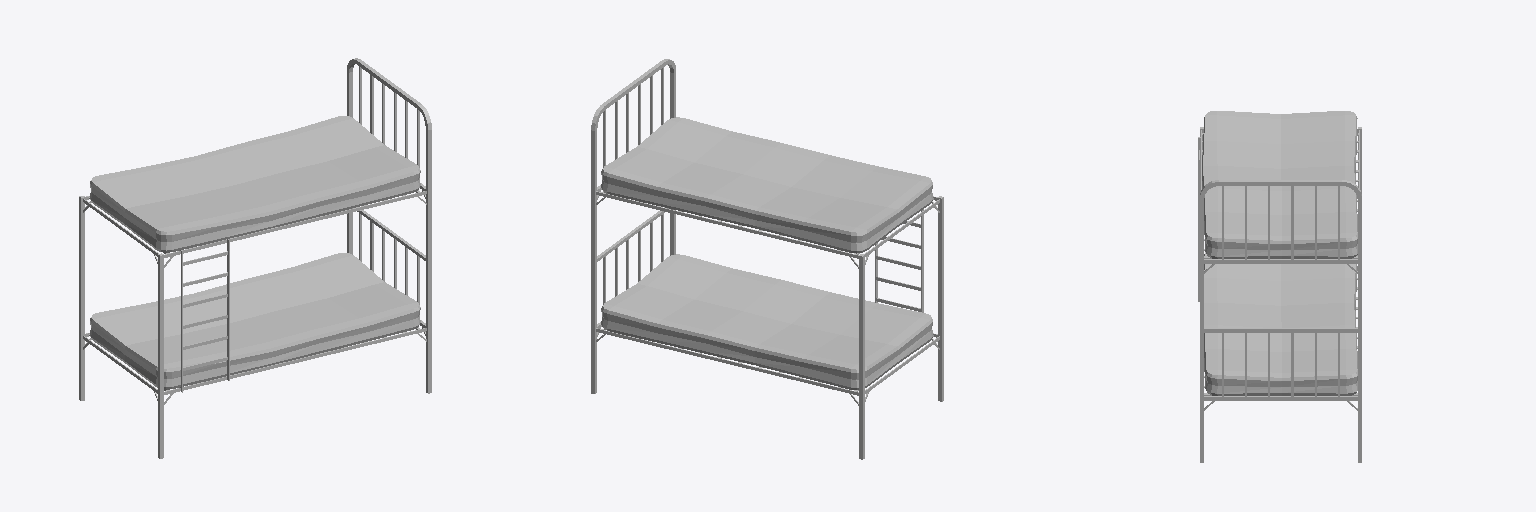
The model's file is bed_2_1.obj.
3 renders of one model, left to right at view 1: azimuth 30°, elevation 25°; view 2: azimuth 150°, elevation 25°; view 3: azimuth 270°, elevation 25°, orthographic.
Visible parts, largest first — view 1: bed_2_1; view 2: bed_2_1; view 3: bed_2_1.
Boxes of the visible parts, box(x1,y1,x2,y2) form: bed_2_1: box(79, 58, 431, 458); bed_2_1: box(591, 59, 943, 459); bed_2_1: box(1198, 111, 1361, 462).
Bounding box in the file's own units: 2.7 × 2.67 × 1.42.